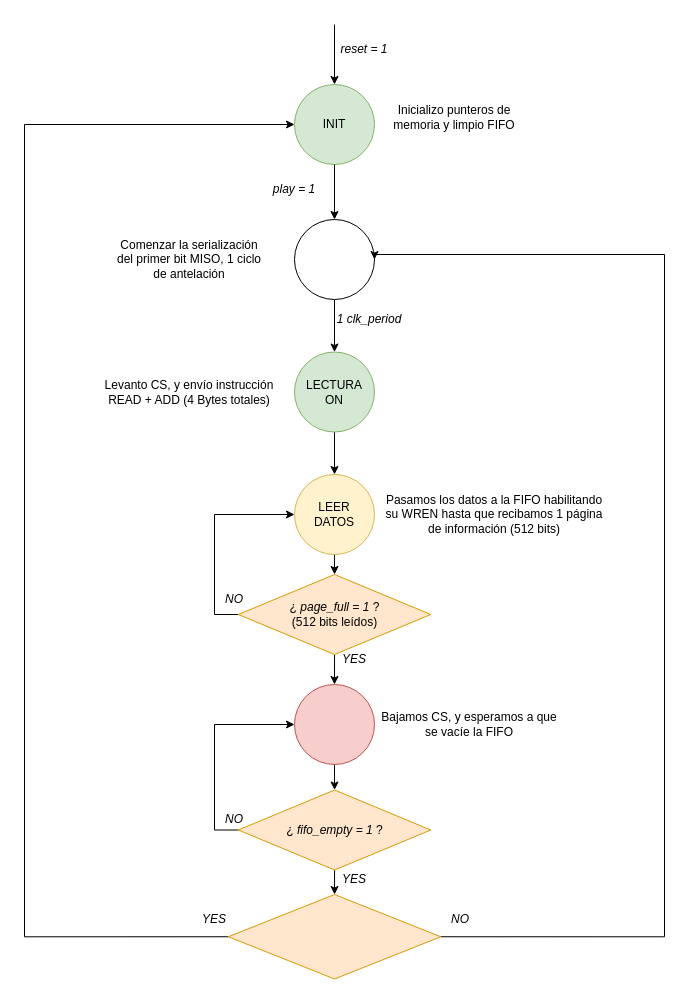
The diagram is 690 pixels wide and 997 high, and some of its shapes have lost their labels. Here are the shapes that lost their labels. From the top down, the centre of each, then its label:
At (x=334, y=259): "SERIALIZAR".
At (x=334, y=724): "STOP LECTURA".
At (x=334, y=936): "¿ dir_address = dir_max ?".
